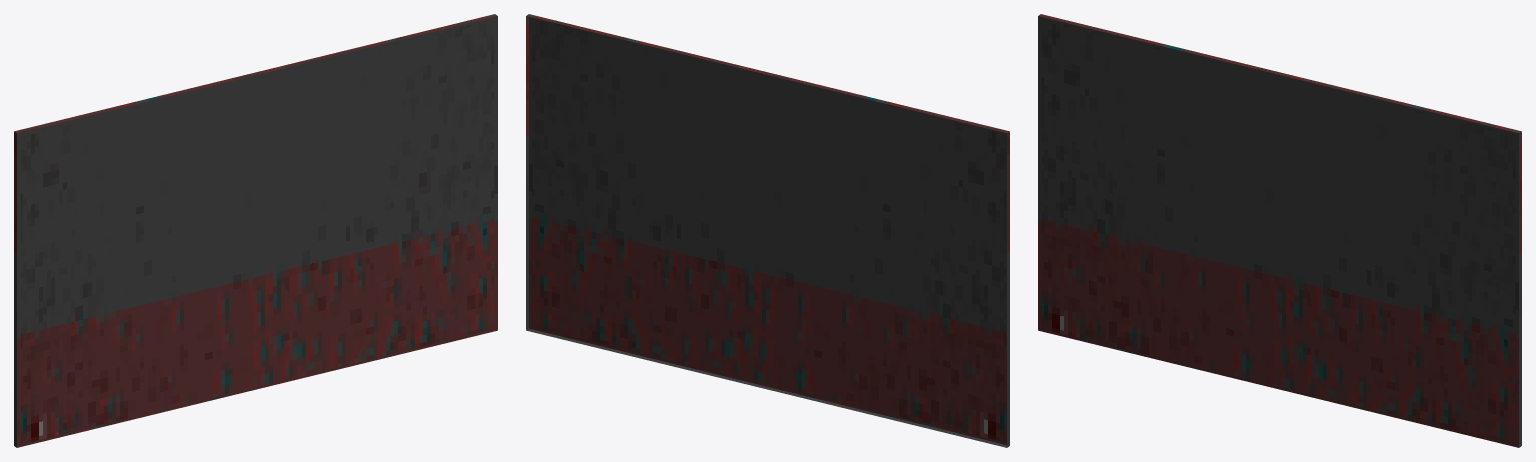
Rendered from wall02.gltf.
The picture shows the model from 3 angles, left to right: view 1: azimuth 30°, elevation 25°; view 2: azimuth 150°, elevation 25°; view 3: azimuth 330°, elevation 25°; orthographic projection.
Visible parts, largest first — view 1: Cube; view 2: Cube; view 3: Cube.
Boxes of the visible parts, x1,y1,x2,y2 form: Cube: (14,14,497,447); Cube: (526,14,1009,447); Cube: (1038,14,1521,447).
Bounding box in the file's own units: 4 × 2.5 × 0.04.
Materials: 1 (1 with a texture image).
